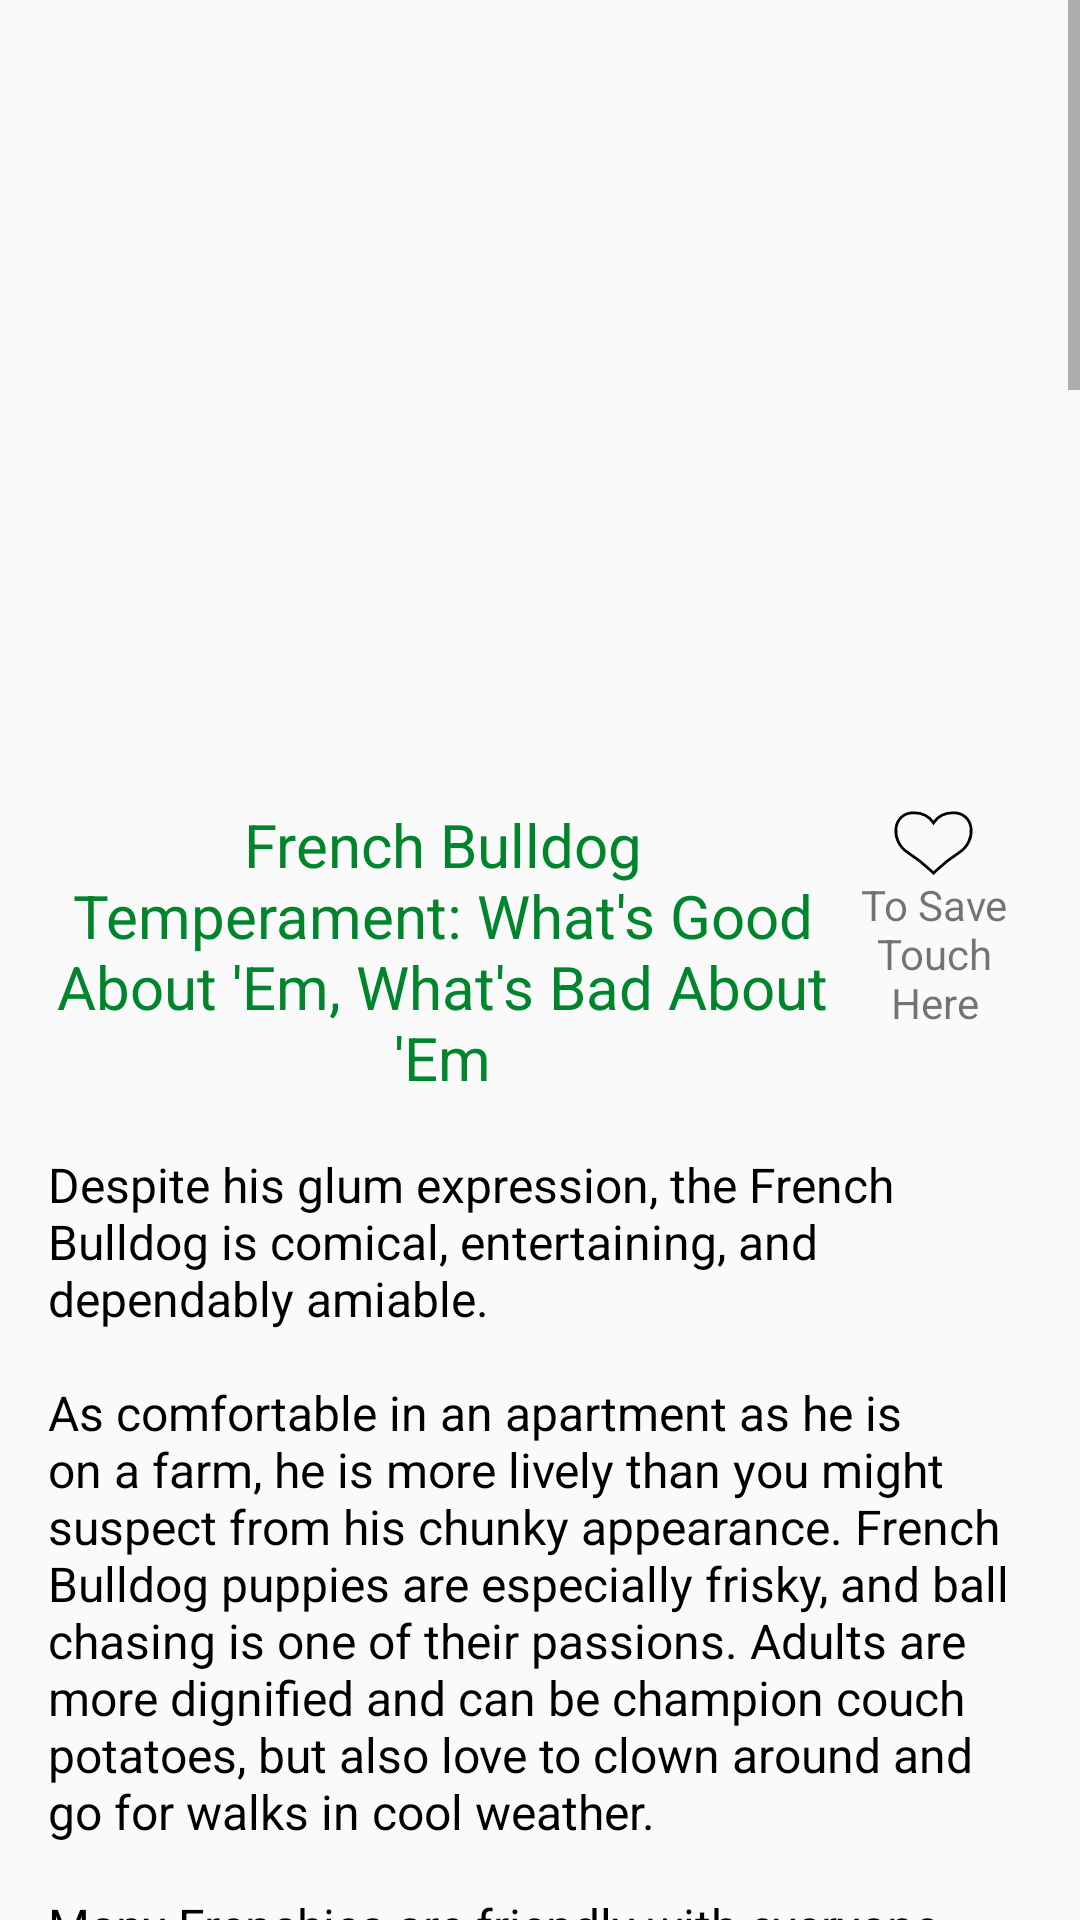

Where icons sit on this 1080w x 1920h app screen, as (x1, y1, x2, y2):
favorite: (894, 811, 973, 875)
